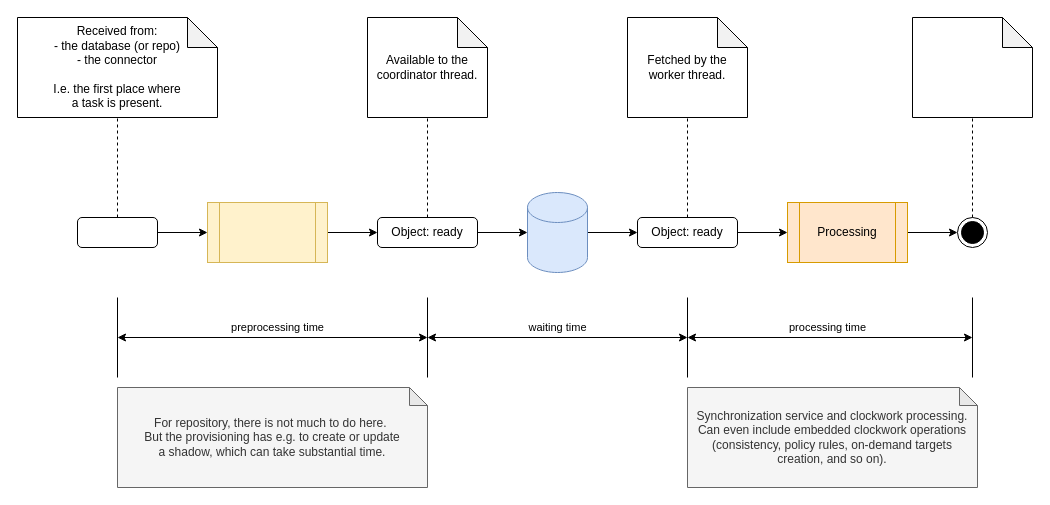
The diagram is 1050 pixels wide and 505 high, and some of its shapes have lost their labels. The centre of each missing label's shape, as x and y in pixels:
"Object: raw" goes at pixel 117 232.
"Pre-processing" goes at pixel 267 232.
"Queue" goes at pixel 557 232.
"The work is done." goes at pixel 972 67.
